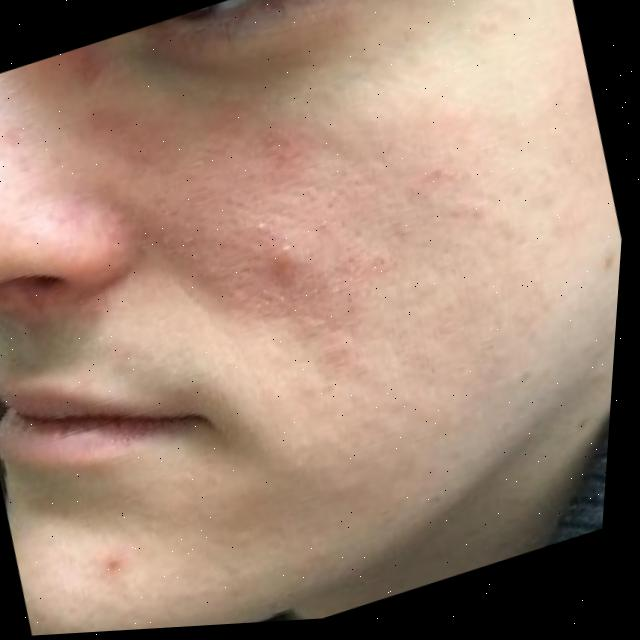Acne: (142, 74, 460, 354)
